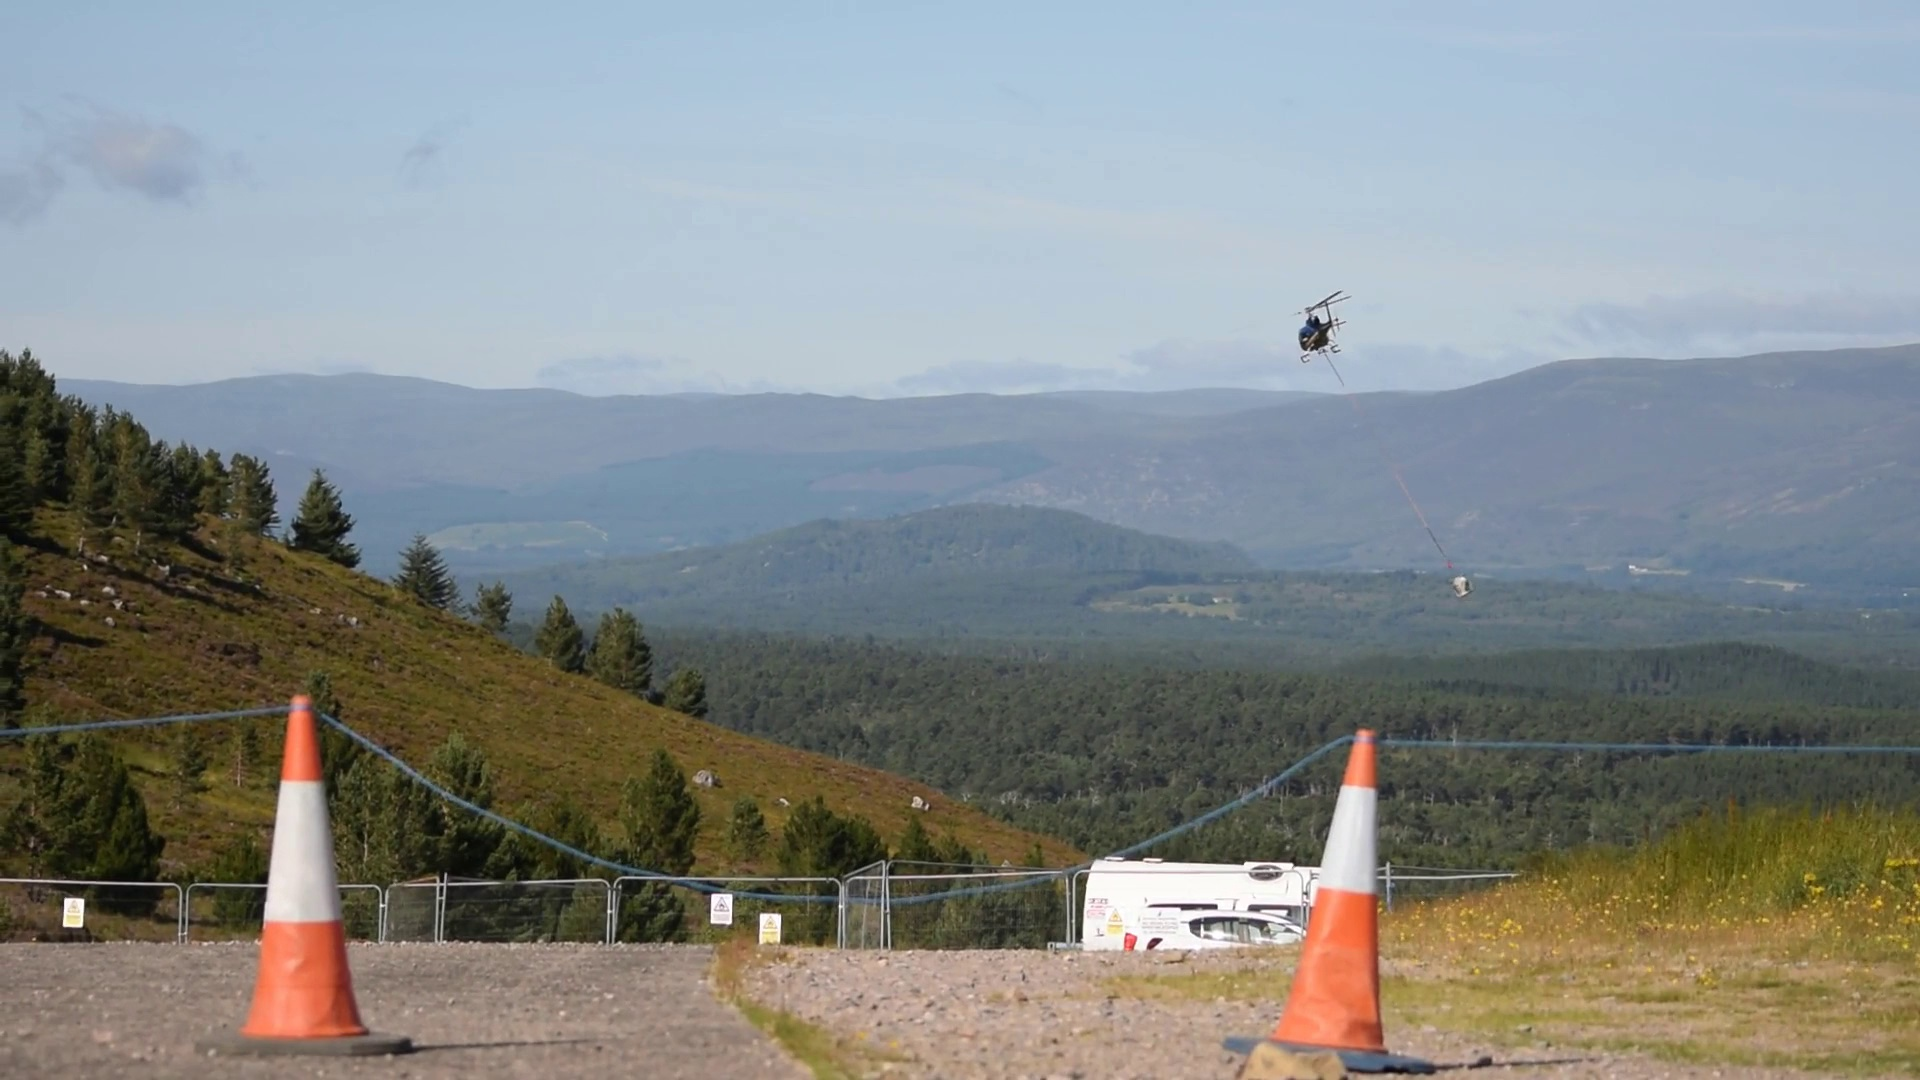heli: (1290, 287, 1346, 363)
